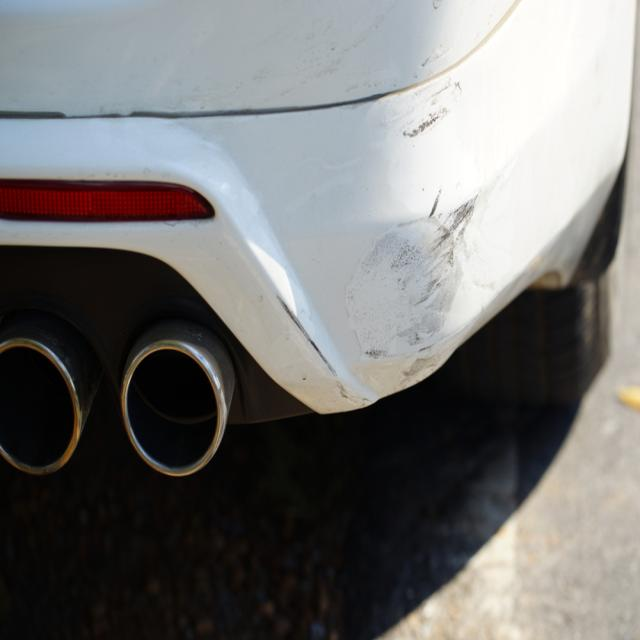scratch: (343, 159, 510, 389), (402, 81, 465, 142)
